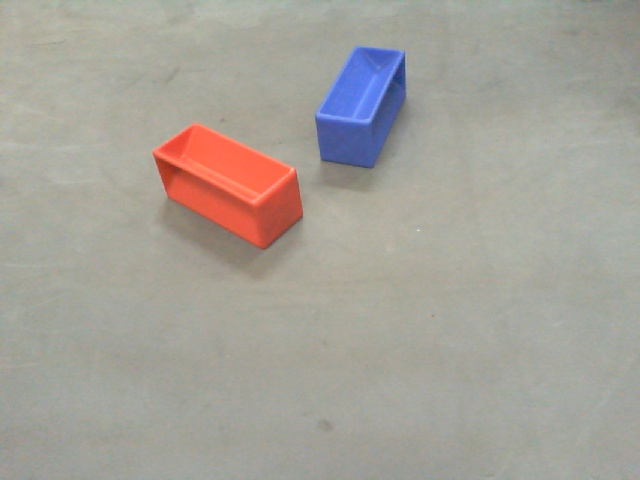BlueSample: (316, 40, 408, 176)
RedSample: (151, 122, 303, 251)
